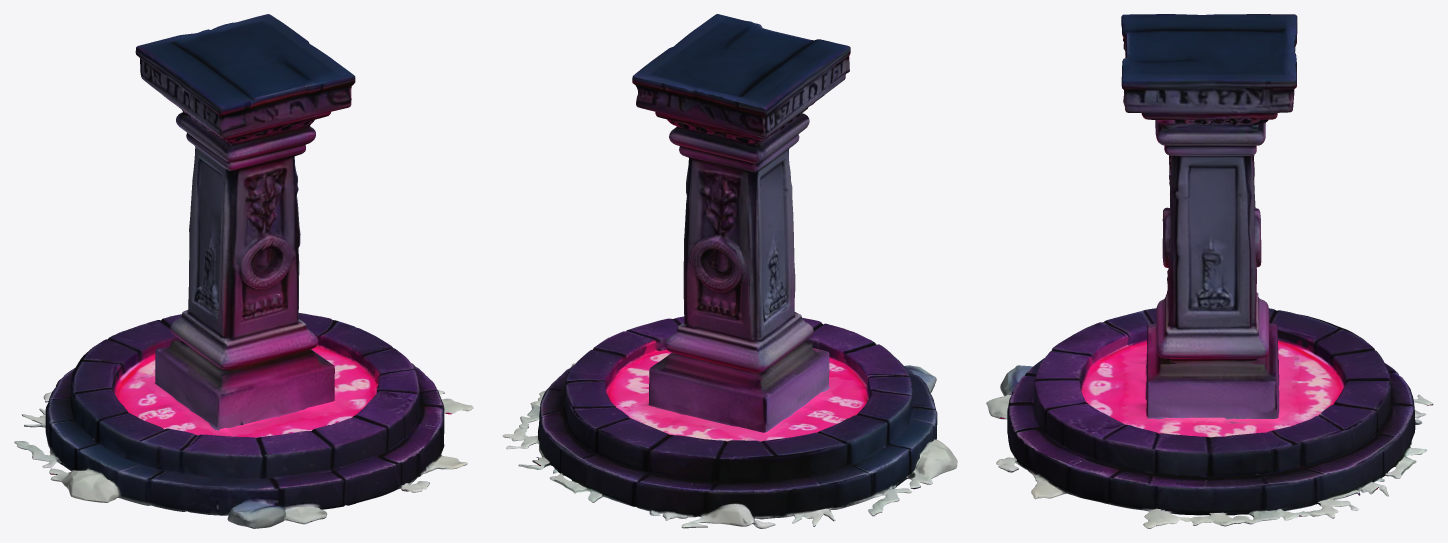
Rendered from support-column-generated-2026-05-17T18-34-01-911Z.medium.glb.
3 renders of one model, left to right at view 1: azimuth 30°, elevation 25°; view 2: azimuth 150°, elevation 25°; view 3: azimuth 270°, elevation 25°, orthographic. The views are drawn at different scales.
Parts seen in each view (by area): view 1: temp_mesh.ply; view 2: temp_mesh.ply; view 3: temp_mesh.ply.
Boxes of the visible parts, bbox=[...] form: temp_mesh.ply: bbox=[14, 14, 473, 528]; temp_mesh.ply: bbox=[502, 14, 957, 528]; temp_mesh.ply: bbox=[986, 14, 1433, 528].
Bounding box in the file's own units: 1.97 × 1.81 × 1.9.
Materials: 1 (1 with a texture image).
